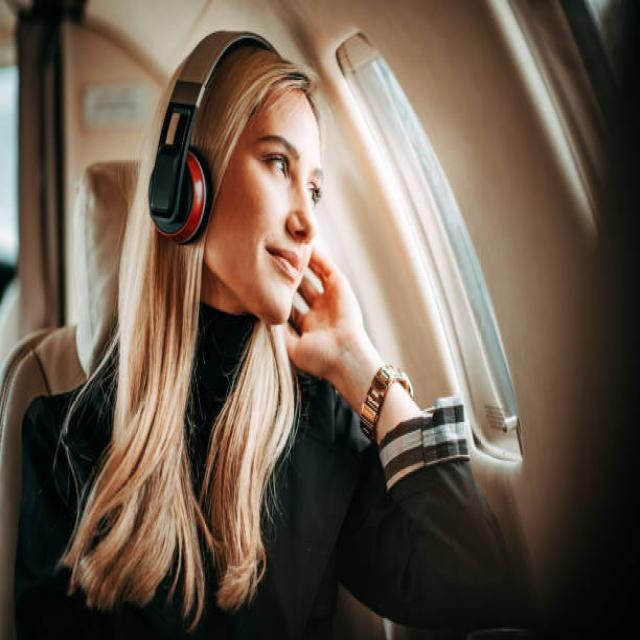Headphone: (148, 30, 276, 247)
